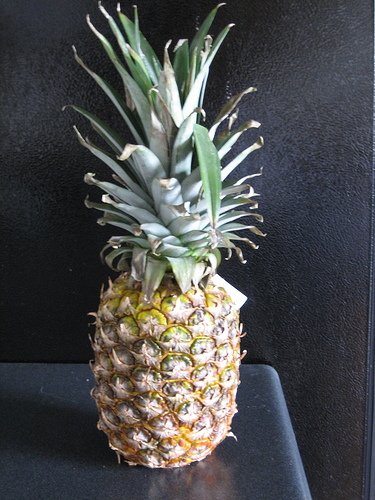pineapple: (60, 0, 265, 472)
